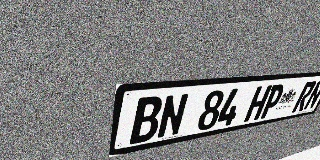4: (215, 88, 246, 128)
8: (195, 90, 227, 132)
B: (129, 95, 164, 145)
H: (243, 85, 272, 122)
N: (156, 93, 189, 139), (302, 80, 320, 111)
P: (258, 84, 286, 119)
R: (291, 81, 317, 113)
